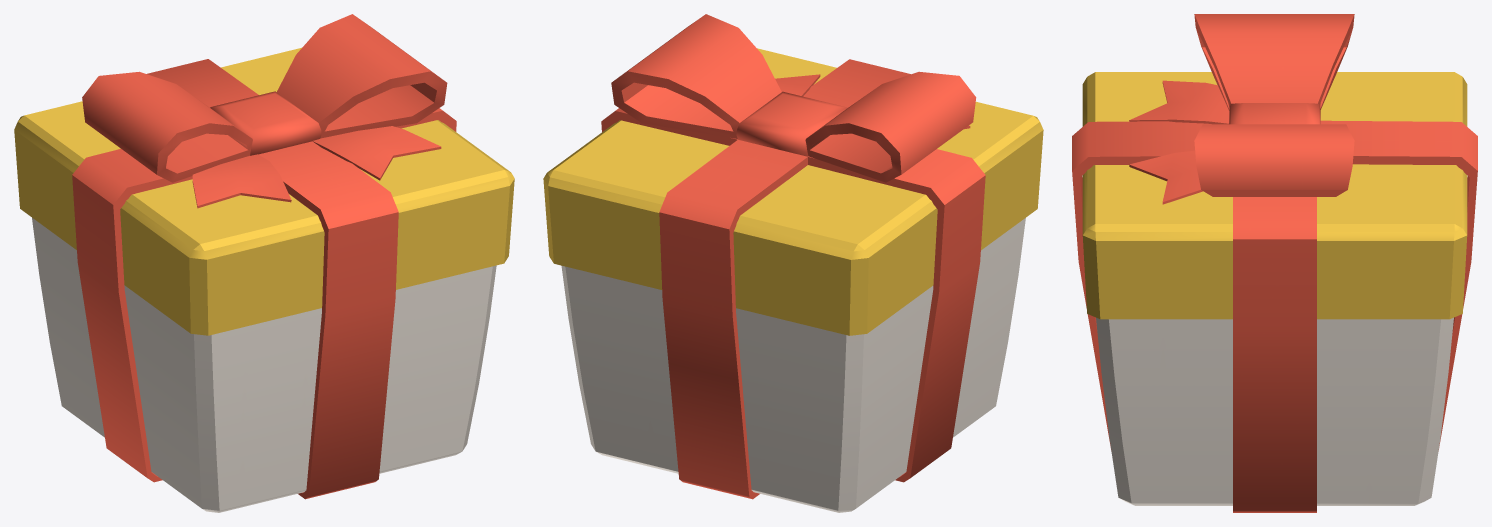
The model's file is gift_box.FBX.
The picture shows the model from 3 angles, left to right: view 1: azimuth 30°, elevation 25°; view 2: azimuth 150°, elevation 25°; view 3: azimuth 270°, elevation 25°; orthographic projection. The views are drawn at different scales.
Parts seen in each view (by area): view 1: Box001; view 2: Box001; view 3: Box001.
Part boxes in pixels (x1=…): Box001: x1=14, y1=14, x2=514, y2=512; Box001: x1=543, y1=14, x2=1043, y2=512; Box001: x1=1072, y1=14, x2=1477, y2=512.
Size of the model in its own units: 111 by 112 by 111.
